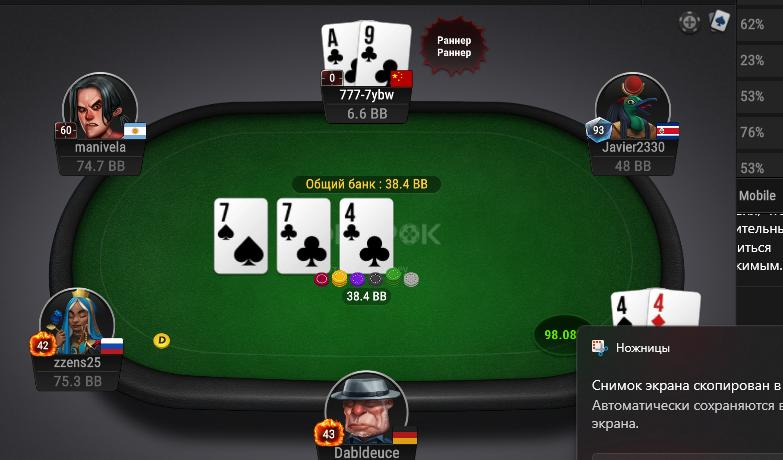4c: (340, 199, 392, 274)
4d: (649, 287, 703, 329)
4s: (611, 291, 649, 326)
7c: (277, 199, 330, 273)
7s: (214, 198, 269, 273)
9c: (358, 20, 412, 88)
Ac: (322, 23, 359, 86)
